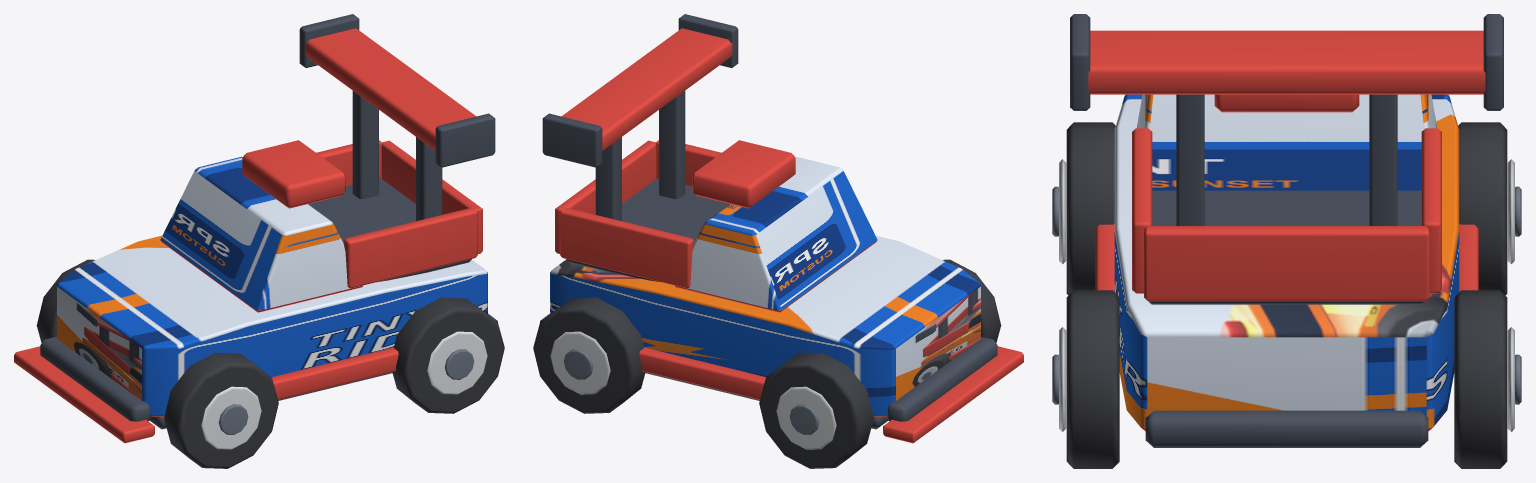
3 views of the same model, side by side, from view 1: azimuth 30°, elevation 25°; view 2: azimuth 150°, elevation 25°; view 3: azimuth 270°, elevation 25° (orthographic). The views are drawn at different scales.
Visible parts, largest first — view 1: TC-03_connected_shell, TC-03_cabin, rear airfoil, Tire, Tire.002, cargo side, custom equipment, cargo floor, custom chin, custom side guard, front bumper, wing support.001 (+10 smaller); view 2: TC-03_connected_shell, TC-03_cabin, rear airfoil, Tire.001, Tire.003, cargo side.001, custom equipment, cargo floor, custom chin, custom side guard.001, front bumper, wing support (+10 smaller); view 3: TC-03_connected_shell, rear airfoil, cargo tail, TC-03_cabin, rear bumper, Tire.002, Tire.003, cargo floor, Tire, Tire.001, wing support, wing support.001 (+11 smaller).
Boxes of the visible parts, x1=… form: TC-03_connected_shell: x1=57, y1=235, x2=487, y2=416; TC-03_cabin: x1=160, y1=156, x2=362, y2=312; rear airfoil: x1=305, y1=28, x2=476, y2=150; Tire: x1=164, y1=352, x2=278, y2=468; Tire.002: x1=392, y1=297, x2=504, y2=413; cargo side: x1=343, y1=207, x2=477, y2=288; custom equipment: x1=242, y1=140, x2=345, y2=208; cargo floor: x1=308, y1=178, x2=471, y2=281; custom chin: x1=14, y1=346, x2=154, y2=443; custom side guard: x1=271, y1=347, x2=398, y2=399; front bumper: x1=40, y1=336, x2=150, y2=421; wing support.001: x1=352, y1=91, x2=378, y2=199; TC-03_connected_shell: x1=550, y1=235, x2=980, y2=416; TC-03_cabin: x1=675, y1=156, x2=877, y2=312; rear airfoil: x1=561, y1=28, x2=732, y2=150; Tire.001: x1=759, y1=352, x2=873, y2=468; Tire.003: x1=533, y1=297, x2=645, y2=413; cargo side.001: x1=560, y1=207, x2=694, y2=288; custom equipment: x1=692, y1=140, x2=795, y2=208; cargo floor: x1=566, y1=178, x2=729, y2=281; custom chin: x1=883, y1=346, x2=1023, y2=443; custom side guard.001: x1=639, y1=347, x2=766, y2=399; front bumper: x1=887, y1=336, x2=997, y2=421; wing support: x1=659, y1=91, x2=685, y2=199; TC-03_connected_shell: x1=1114, y1=94, x2=1459, y2=431; rear airfoil: x1=1088, y1=30, x2=1485, y2=94; cargo tail: x1=1144, y1=226, x2=1429, y2=301; TC-03_cabin: x1=1137, y1=94, x2=1436, y2=190; rear bumper: x1=1145, y1=410, x2=1428, y2=447; Tire.002: x1=1066, y1=290, x2=1119, y2=468; Tire.003: x1=1454, y1=290, x2=1507, y2=468; cargo floor: x1=1148, y1=190, x2=1425, y2=304; Tire: x1=1066, y1=122, x2=1115, y2=295; Tire.001: x1=1458, y1=122, x2=1507, y2=295; wing support: x1=1176, y1=94, x2=1204, y2=225; wing support.001: x1=1369, y1=94, x2=1397, y2=225.
Size of the model in its own units: 332 by 237 by 230.
